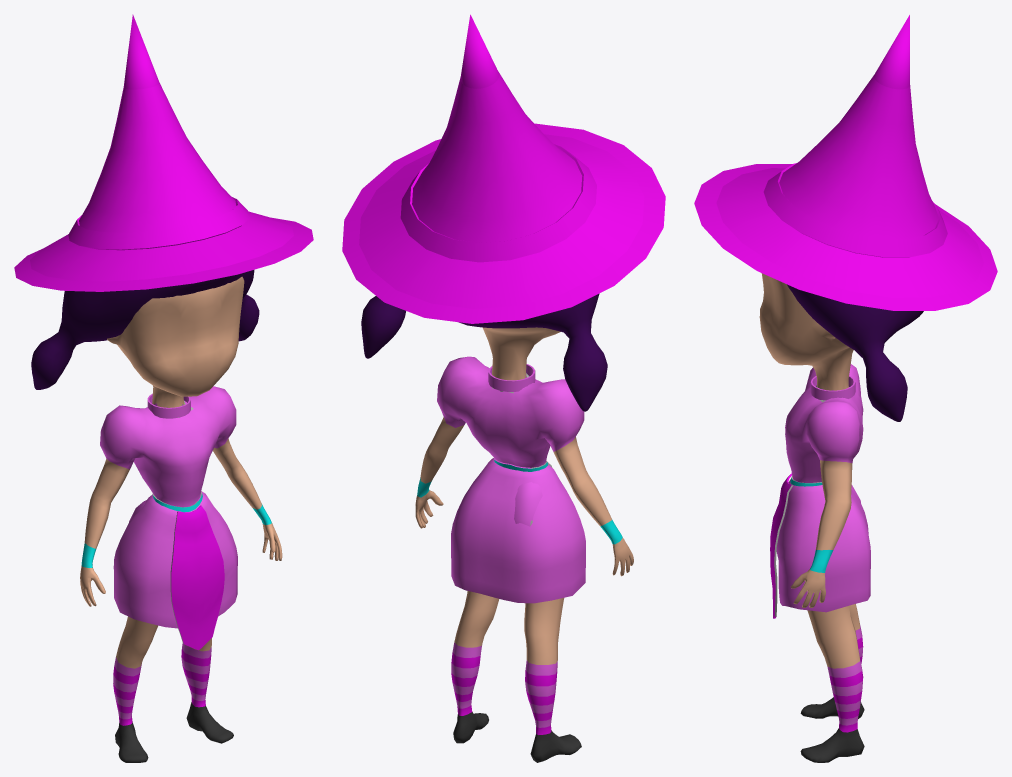
File: WITCH-_ROUGH-Painted.fbx
3 renders of one model, left to right at view 1: azimuth 30°, elevation 25°; view 2: azimuth 150°, elevation 25°; view 3: azimuth 270°, elevation 25°, orthographic. The views are drawn at different scales.
Visible parts, largest first — view 1: pCone4; view 2: pCone4; view 3: pCone4.
Part boxes in pixels (x1,y1,x2,y2): pCone4: [14, 14, 313, 762]; pCone4: [342, 14, 665, 762]; pCone4: [694, 15, 997, 762].
Bounding box in the file's own units: 5.93 × 15.13 × 5.75.
